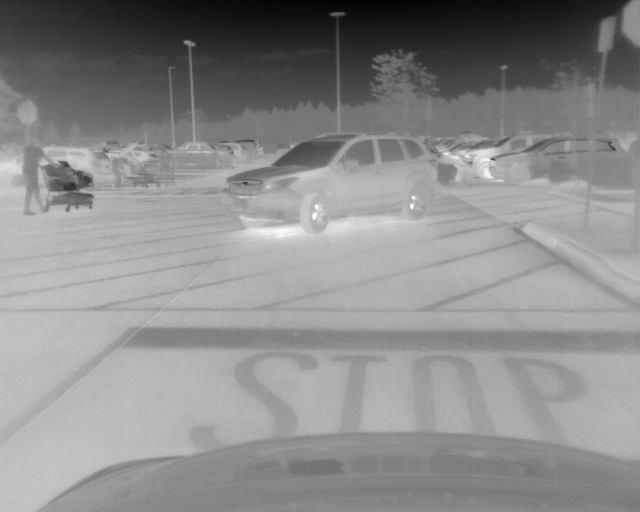car: (218, 134, 440, 234), (488, 134, 629, 186), (465, 131, 553, 181), (37, 146, 115, 193), (244, 139, 266, 161), (228, 141, 248, 165), (178, 141, 217, 153)
people: (21, 136, 57, 215), (111, 158, 132, 187)
